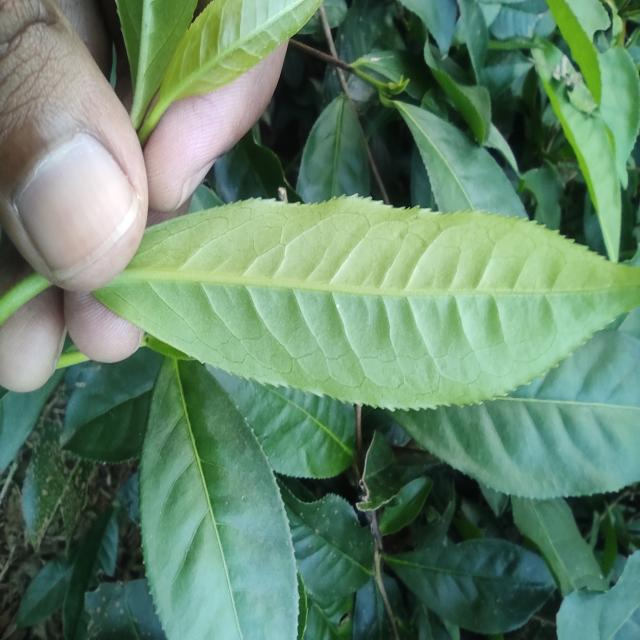Category C(4-7 days): (71, 165, 640, 422)
